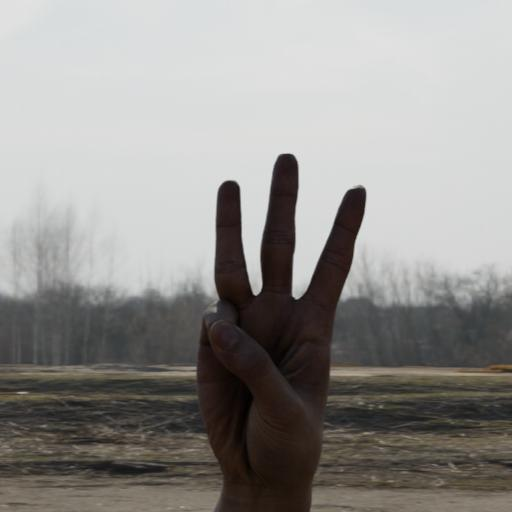W: (182, 149, 371, 471)
